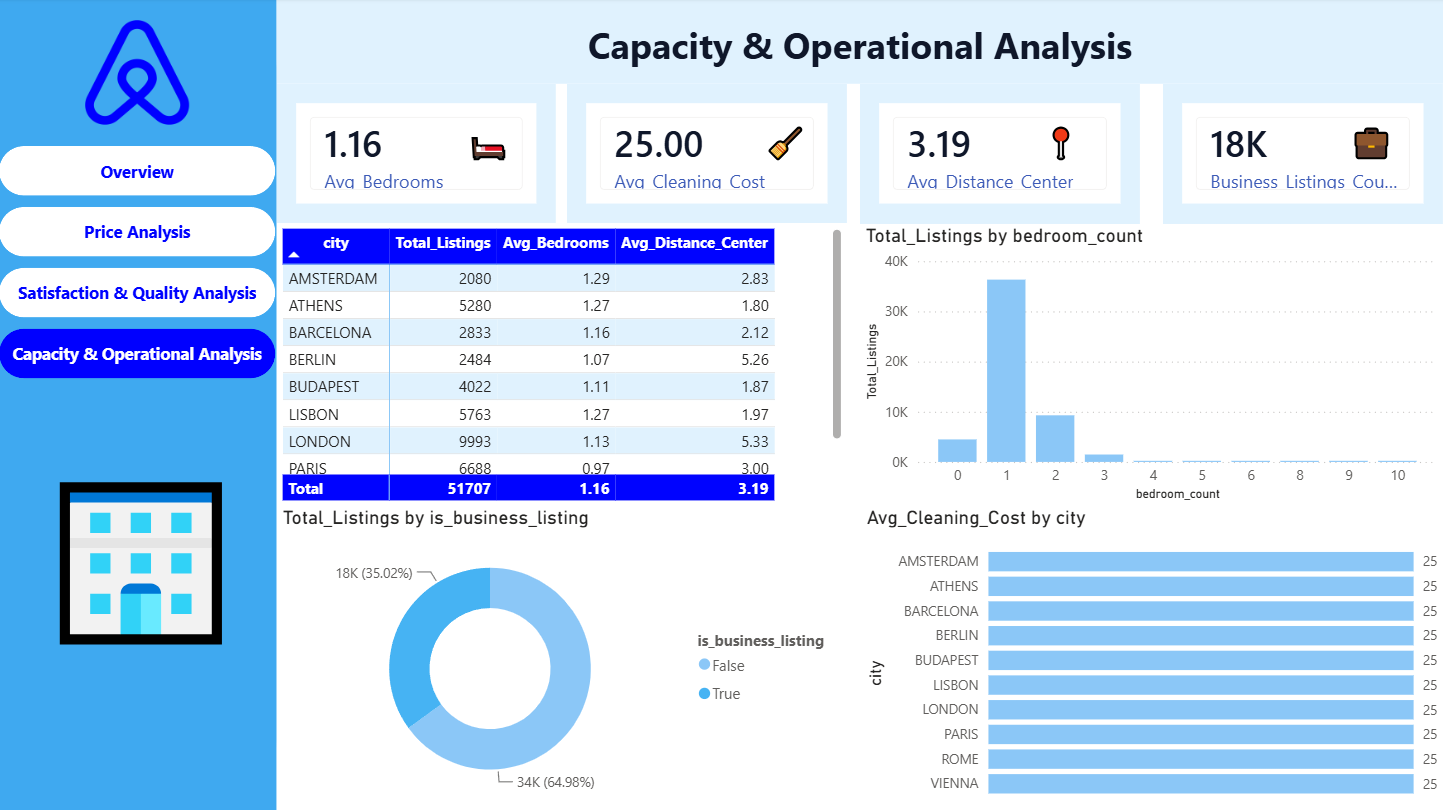

The dashboard page shown, as its layout file describes it:
{"tool":"powerbi","page":{"name":"Capacity & Operational Analysis","canvas":[1280,720],"ordinal":3},"visuals":[{"type":"shape","box":[0,0,246.1,719.8],"z":0},{"type":"image","box":[74.8,19.4,96.2,93.3],"z":1000},{"type":"shape","box":[246.1,0,1033.9,75.9],"z":3000},{"type":"textbox","box":[246.1,19.5,1033.9,56.4],"z":4000},{"type":"cardVisual","fields":{"Data":["gold dim_hosts.Avg_Cleaning_Cost"]},"box":[503.8,75.9,248,123.5],"z":5000},{"type":"cardVisual","fields":{"Data":["gold dim_hosts.Avg_Bedrooms"]},"box":[246.1,75.9,247.1,123.5],"z":6000},{"type":"cardVisual","fields":{"Data":["gold dim_hosts.Avg_Distance_Center"]},"box":[763.5,75.9,248,123.5],"z":7000},{"type":"cardVisual","fields":{"Data":["gold dim_hosts.Business_Listings_Count"]},"box":[1032,75.9,248,123.5],"z":8000},{"type":"donutChart","fields":{"Category":["gold fact_listings.is_business_listing"],"Y":["gold dim_locations.Total_Listings"]},"box":[246.1,450.3,505.8,269.4],"z":9000},{"type":"pivotTable","fields":{"Rows":["gold dim_locations.city"],"Values":["gold dim_locations.Total_Listings","gold dim_hosts.Avg_Bedrooms","gold dim_hosts.Avg_Distance_Center"]},"box":[246.1,199.4,505.8,250.9],"z":10000},{"type":"clusteredColumnChart","fields":{"Y":["gold dim_locations.Total_Listings"],"Category":["gold fact_listings.bedroom_count"]},"box":[763.5,200.4,516.5,250],"z":11000},{"type":"barChart","fields":{"Category":["gold dim_locations.city"],"Y":["gold dim_hosts.Avg_Cleaning_Cost"]},"box":[764,450,516,269],"z":12000},{"type":"textbox","box":[33.1,403.6,178,190.6],"z":13000},{"type":"textbox","box":[410.5,105,49.6,51.6],"z":14000},{"type":"textbox","box":[674,105,49.6,51.6],"z":15000},{"type":"textbox","box":[926,105,49.6,51.6],"z":16000},{"type":"textbox","box":[1193.4,105,49.6,51.6],"z":17000},{"type":"pageNavigator","box":[0,131.2,245.9,206],"z":17001}]}

Visuals, with their boxes in screenshot pixels (x1, y1, x2, y2), scaled from the page's 1280x720 canvas onto the 1443x810 screenshot:
shape: x1=0 y1=0 x2=277 y2=809
image: x1=84 y1=22 x2=193 y2=127
shape: x1=277 y1=0 x2=1442 y2=85
textbox: x1=277 y1=22 x2=1442 y2=85
cardVisual - gold dim_hosts.Avg_Cleaning_Cost: x1=568 y1=85 x2=848 y2=224
cardVisual - gold dim_hosts.Avg_Bedrooms: x1=277 y1=85 x2=556 y2=224
cardVisual - gold dim_hosts.Avg_Distance_Center: x1=861 y1=85 x2=1140 y2=224
cardVisual - gold dim_hosts.Business_Listings_Count: x1=1163 y1=85 x2=1442 y2=224
donutChart - gold fact_listings.is_business_listing x gold dim_locations.Total_Listings: x1=277 y1=507 x2=848 y2=809
pivotTable - gold dim_locations.city x gold dim_locations.Total_Listings: x1=277 y1=224 x2=848 y2=507
clusteredColumnChart - gold dim_locations.Total_Listings x gold fact_listings.bedroom_count: x1=861 y1=225 x2=1442 y2=507
barChart - gold dim_locations.city x gold dim_hosts.Avg_Cleaning_Cost: x1=861 y1=506 x2=1442 y2=809
textbox: x1=37 y1=454 x2=238 y2=668
textbox: x1=463 y1=118 x2=519 y2=176
textbox: x1=760 y1=118 x2=816 y2=176
textbox: x1=1044 y1=118 x2=1100 y2=176
textbox: x1=1345 y1=118 x2=1401 y2=176
pageNavigator: x1=0 y1=148 x2=277 y2=379
